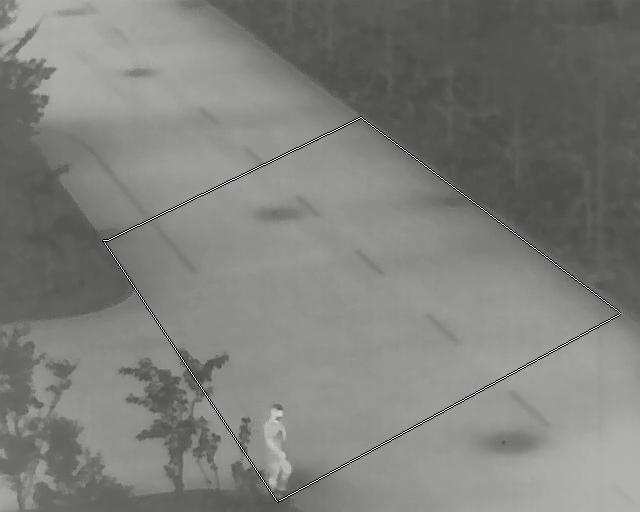person: (258, 398, 296, 494)
